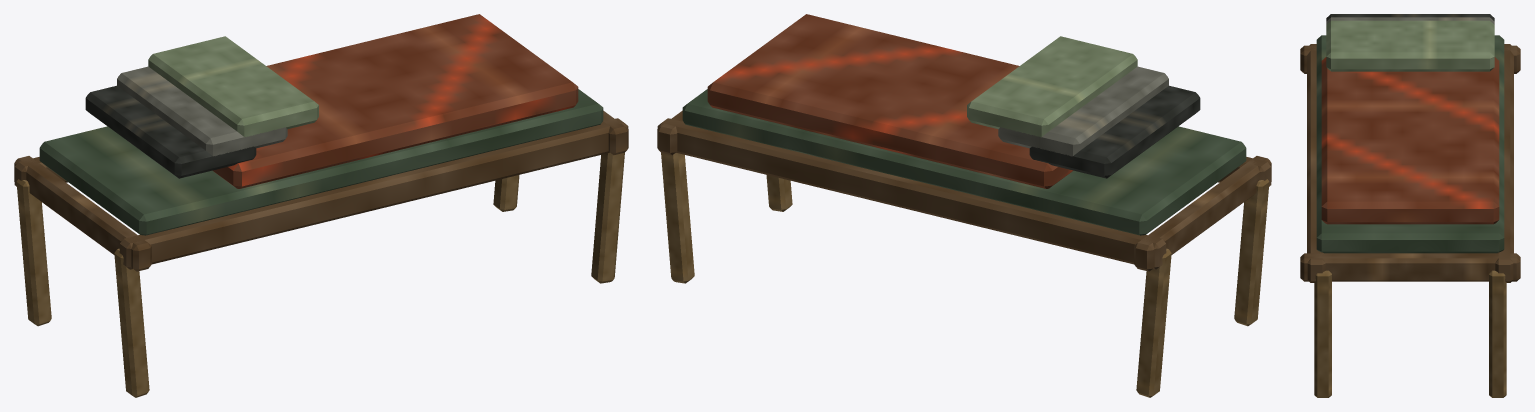
The model's file is SH_POC_FieldCot.fbx.
3 views of the same model, side by side, from view 1: azimuth 30°, elevation 25°; view 2: azimuth 150°, elevation 25°; view 3: azimuth 270°, elevation 25° (orthographic). The views are drawn at different scales.
Parts seen in each view (by area): view 1: SH_POC_FieldCot; view 2: SH_POC_FieldCot; view 3: SH_POC_FieldCot.
Boxes of the visible parts, x1=… form: SH_POC_FieldCot: x1=14, y1=14, x2=628, y2=397; SH_POC_FieldCot: x1=657, y1=14, x2=1271, y2=397; SH_POC_FieldCot: x1=1300, y1=14, x2=1520, y2=397.
Size of the model in its own units: 1.61 by 0.7482 by 0.68.
Materials: 1 (1 with a texture image).
